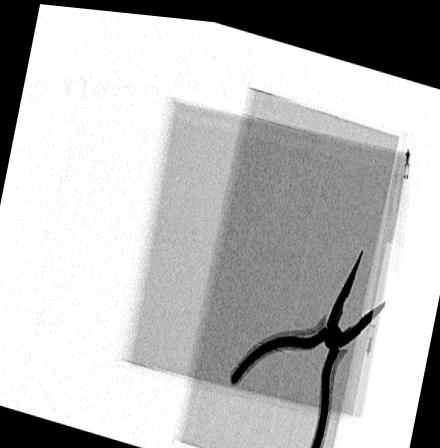Pliers: (227, 236, 387, 448)
